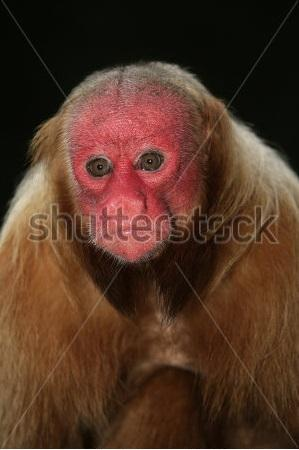monkey: (0, 61, 299, 447)
